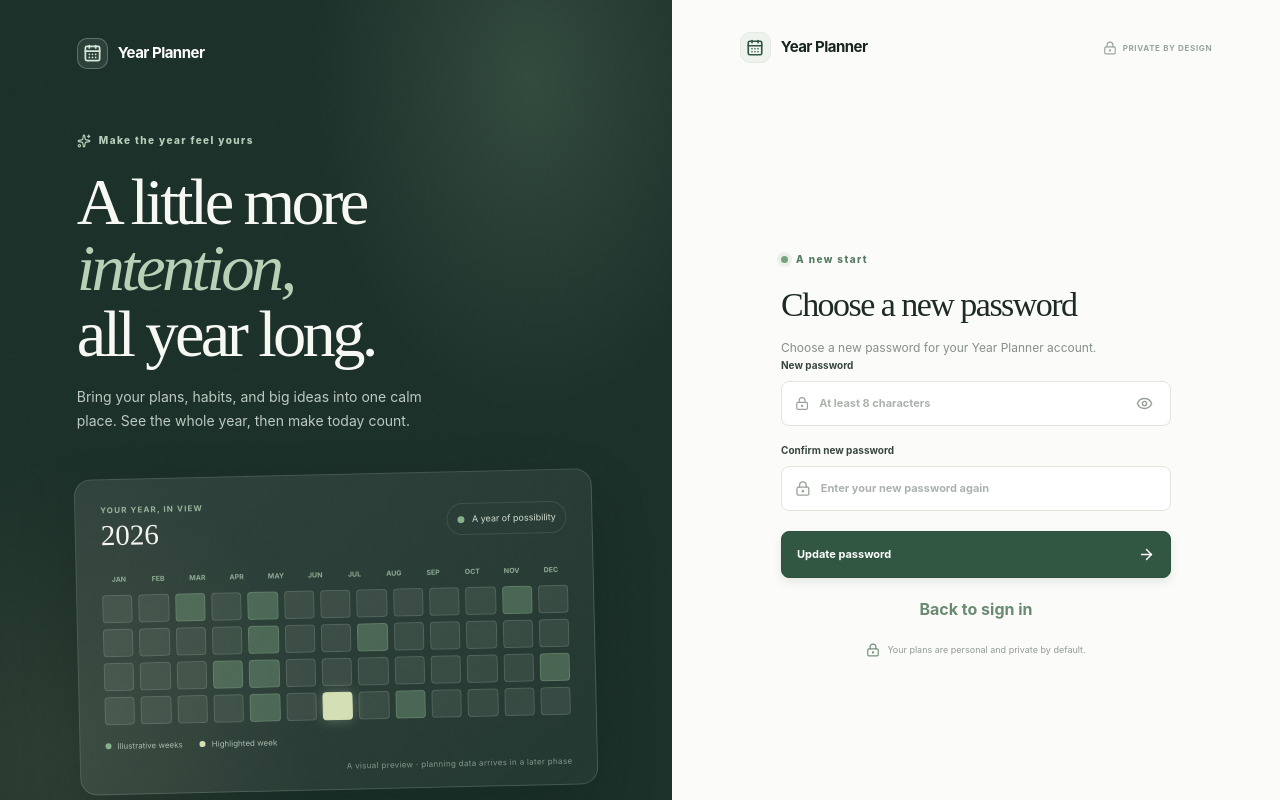
Test: AuthPage › submits a matching password with the reset token
Type "new-password" into the password field with placeholder "At least 8 characters" at (971,403), box [819, 395, 1122, 411]
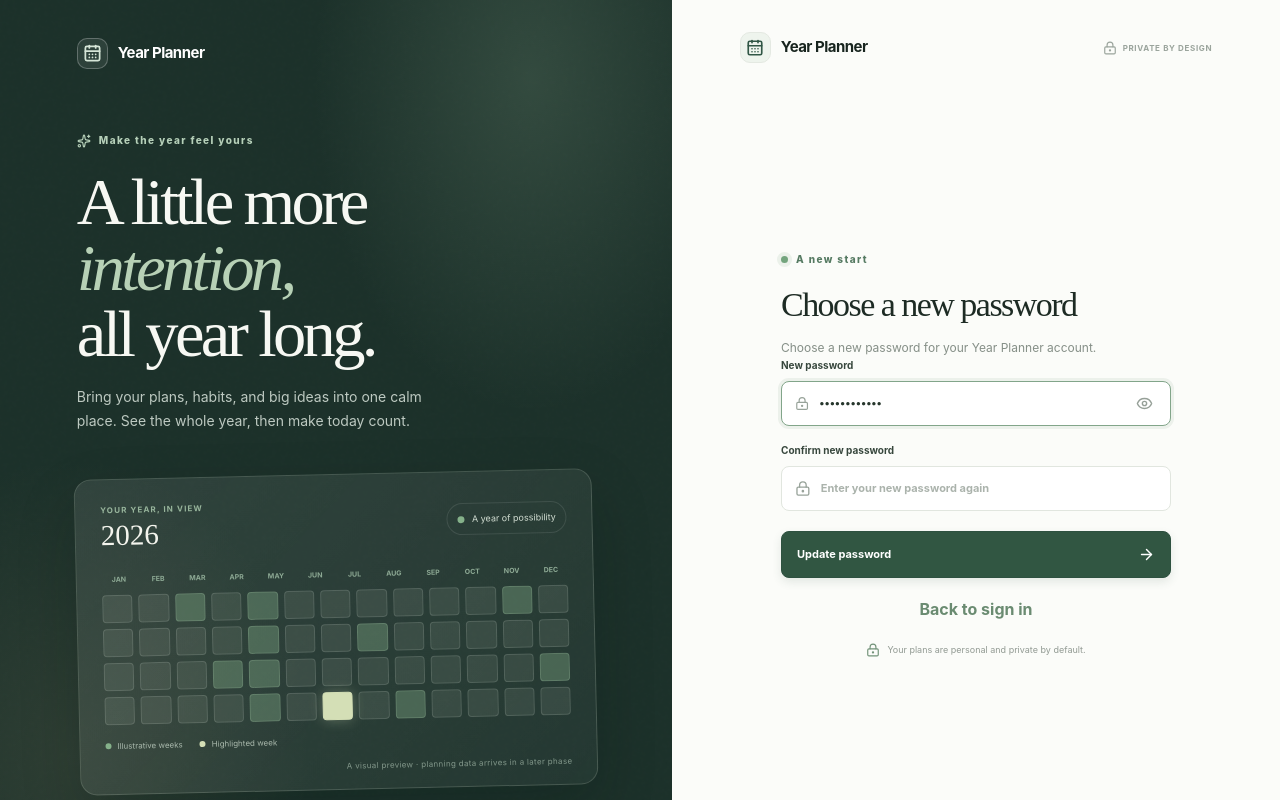
Type "new-password" into the password field with placeholder "Enter your new password again" at (989,488), box [821, 480, 1157, 496]
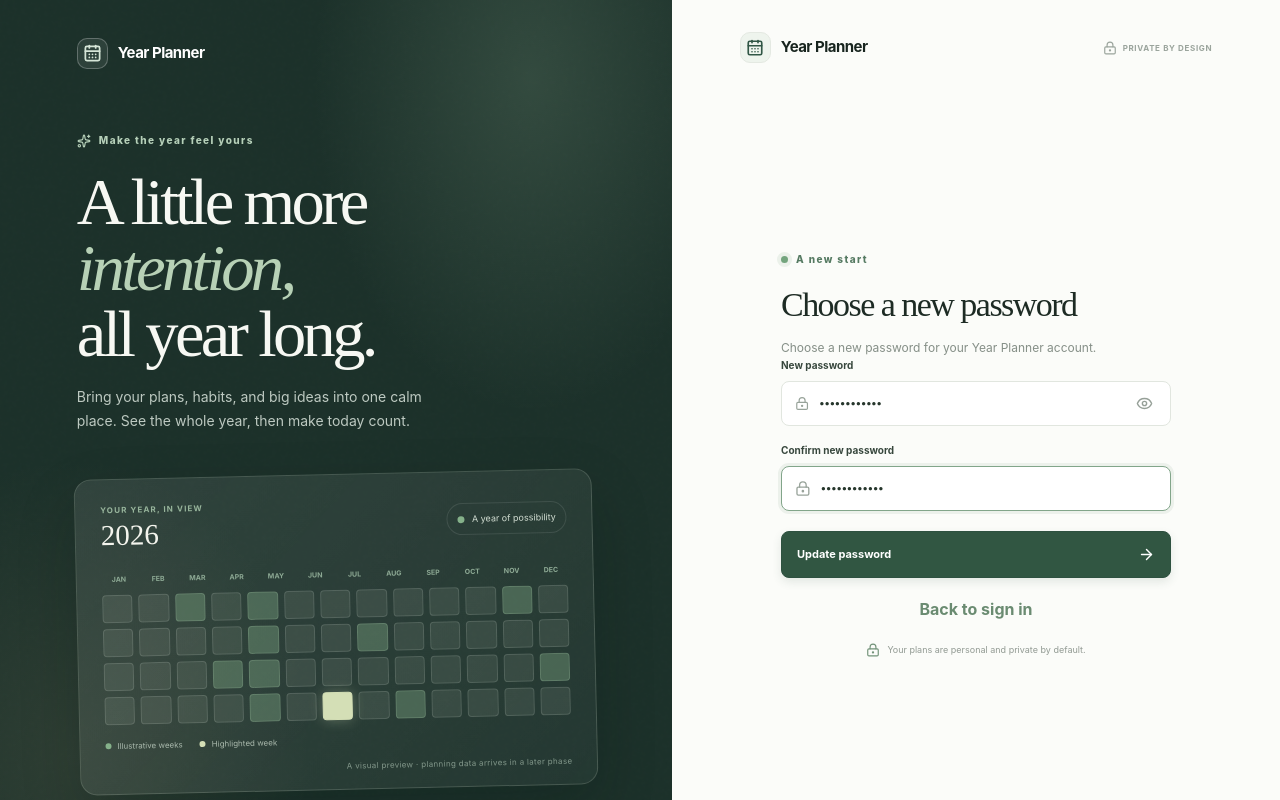
Click the button "Update password" at (844,554), box [781, 531, 1171, 578]
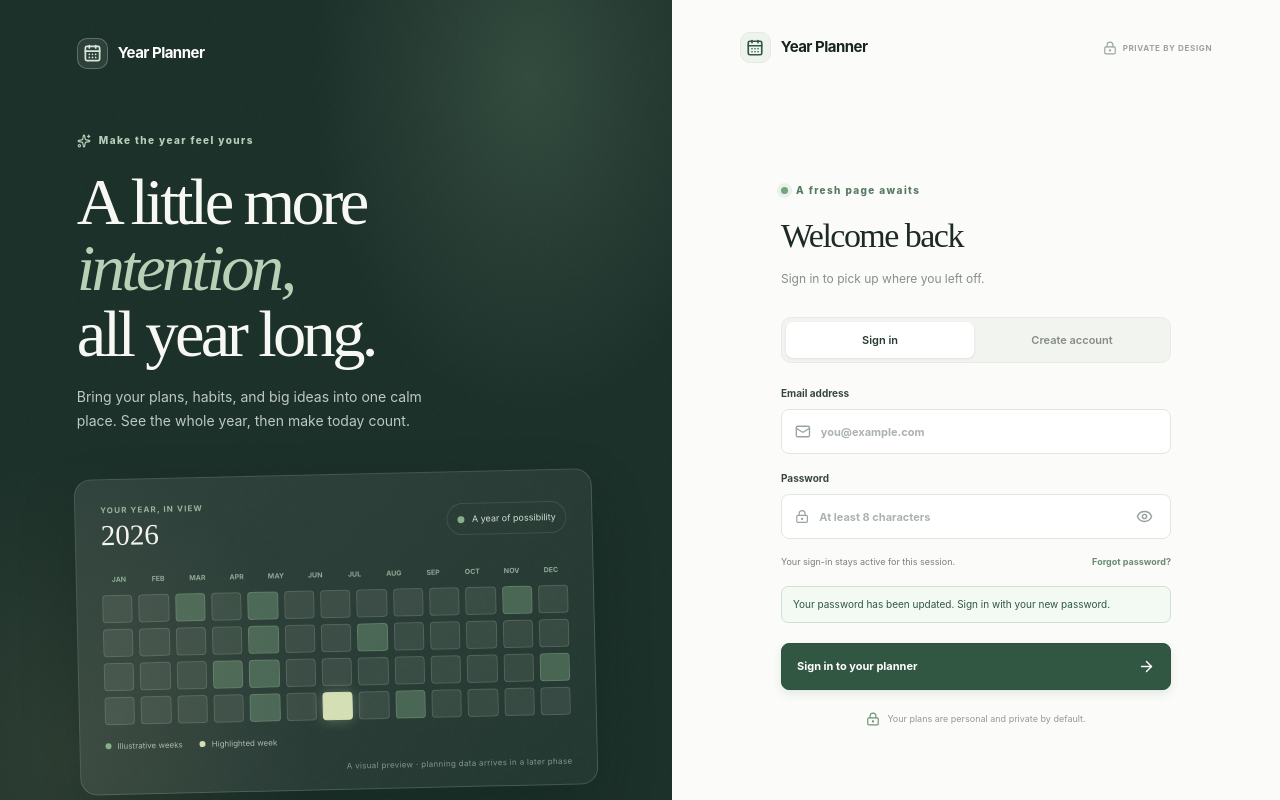
Now the message shows "password has been updated", box [793, 598, 1110, 610]
